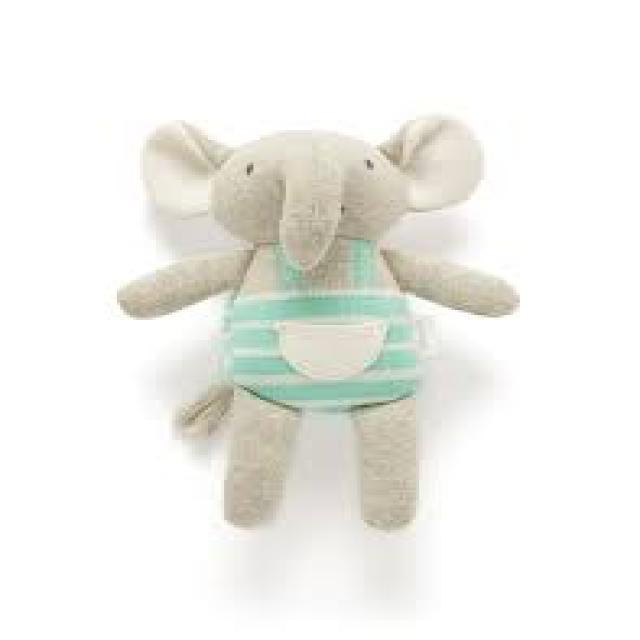soft-toy: (119, 119, 520, 530)
